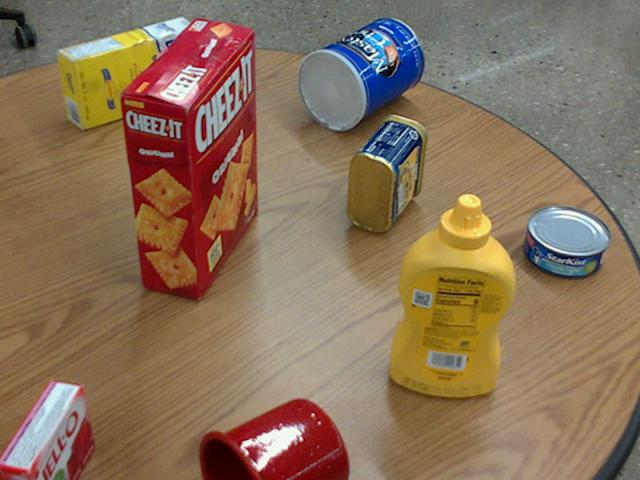cracker_box: (120, 19, 254, 299)
gelatin_box: (0, 379, 90, 479)
master_chef_can: (295, 17, 422, 129)
mug: (195, 399, 347, 479)
mustard_bottle: (387, 194, 514, 396)
potted_meat_can: (347, 114, 425, 231)
sugar_box: (56, 16, 201, 128)
tuna_fish_can: (521, 205, 607, 278)
